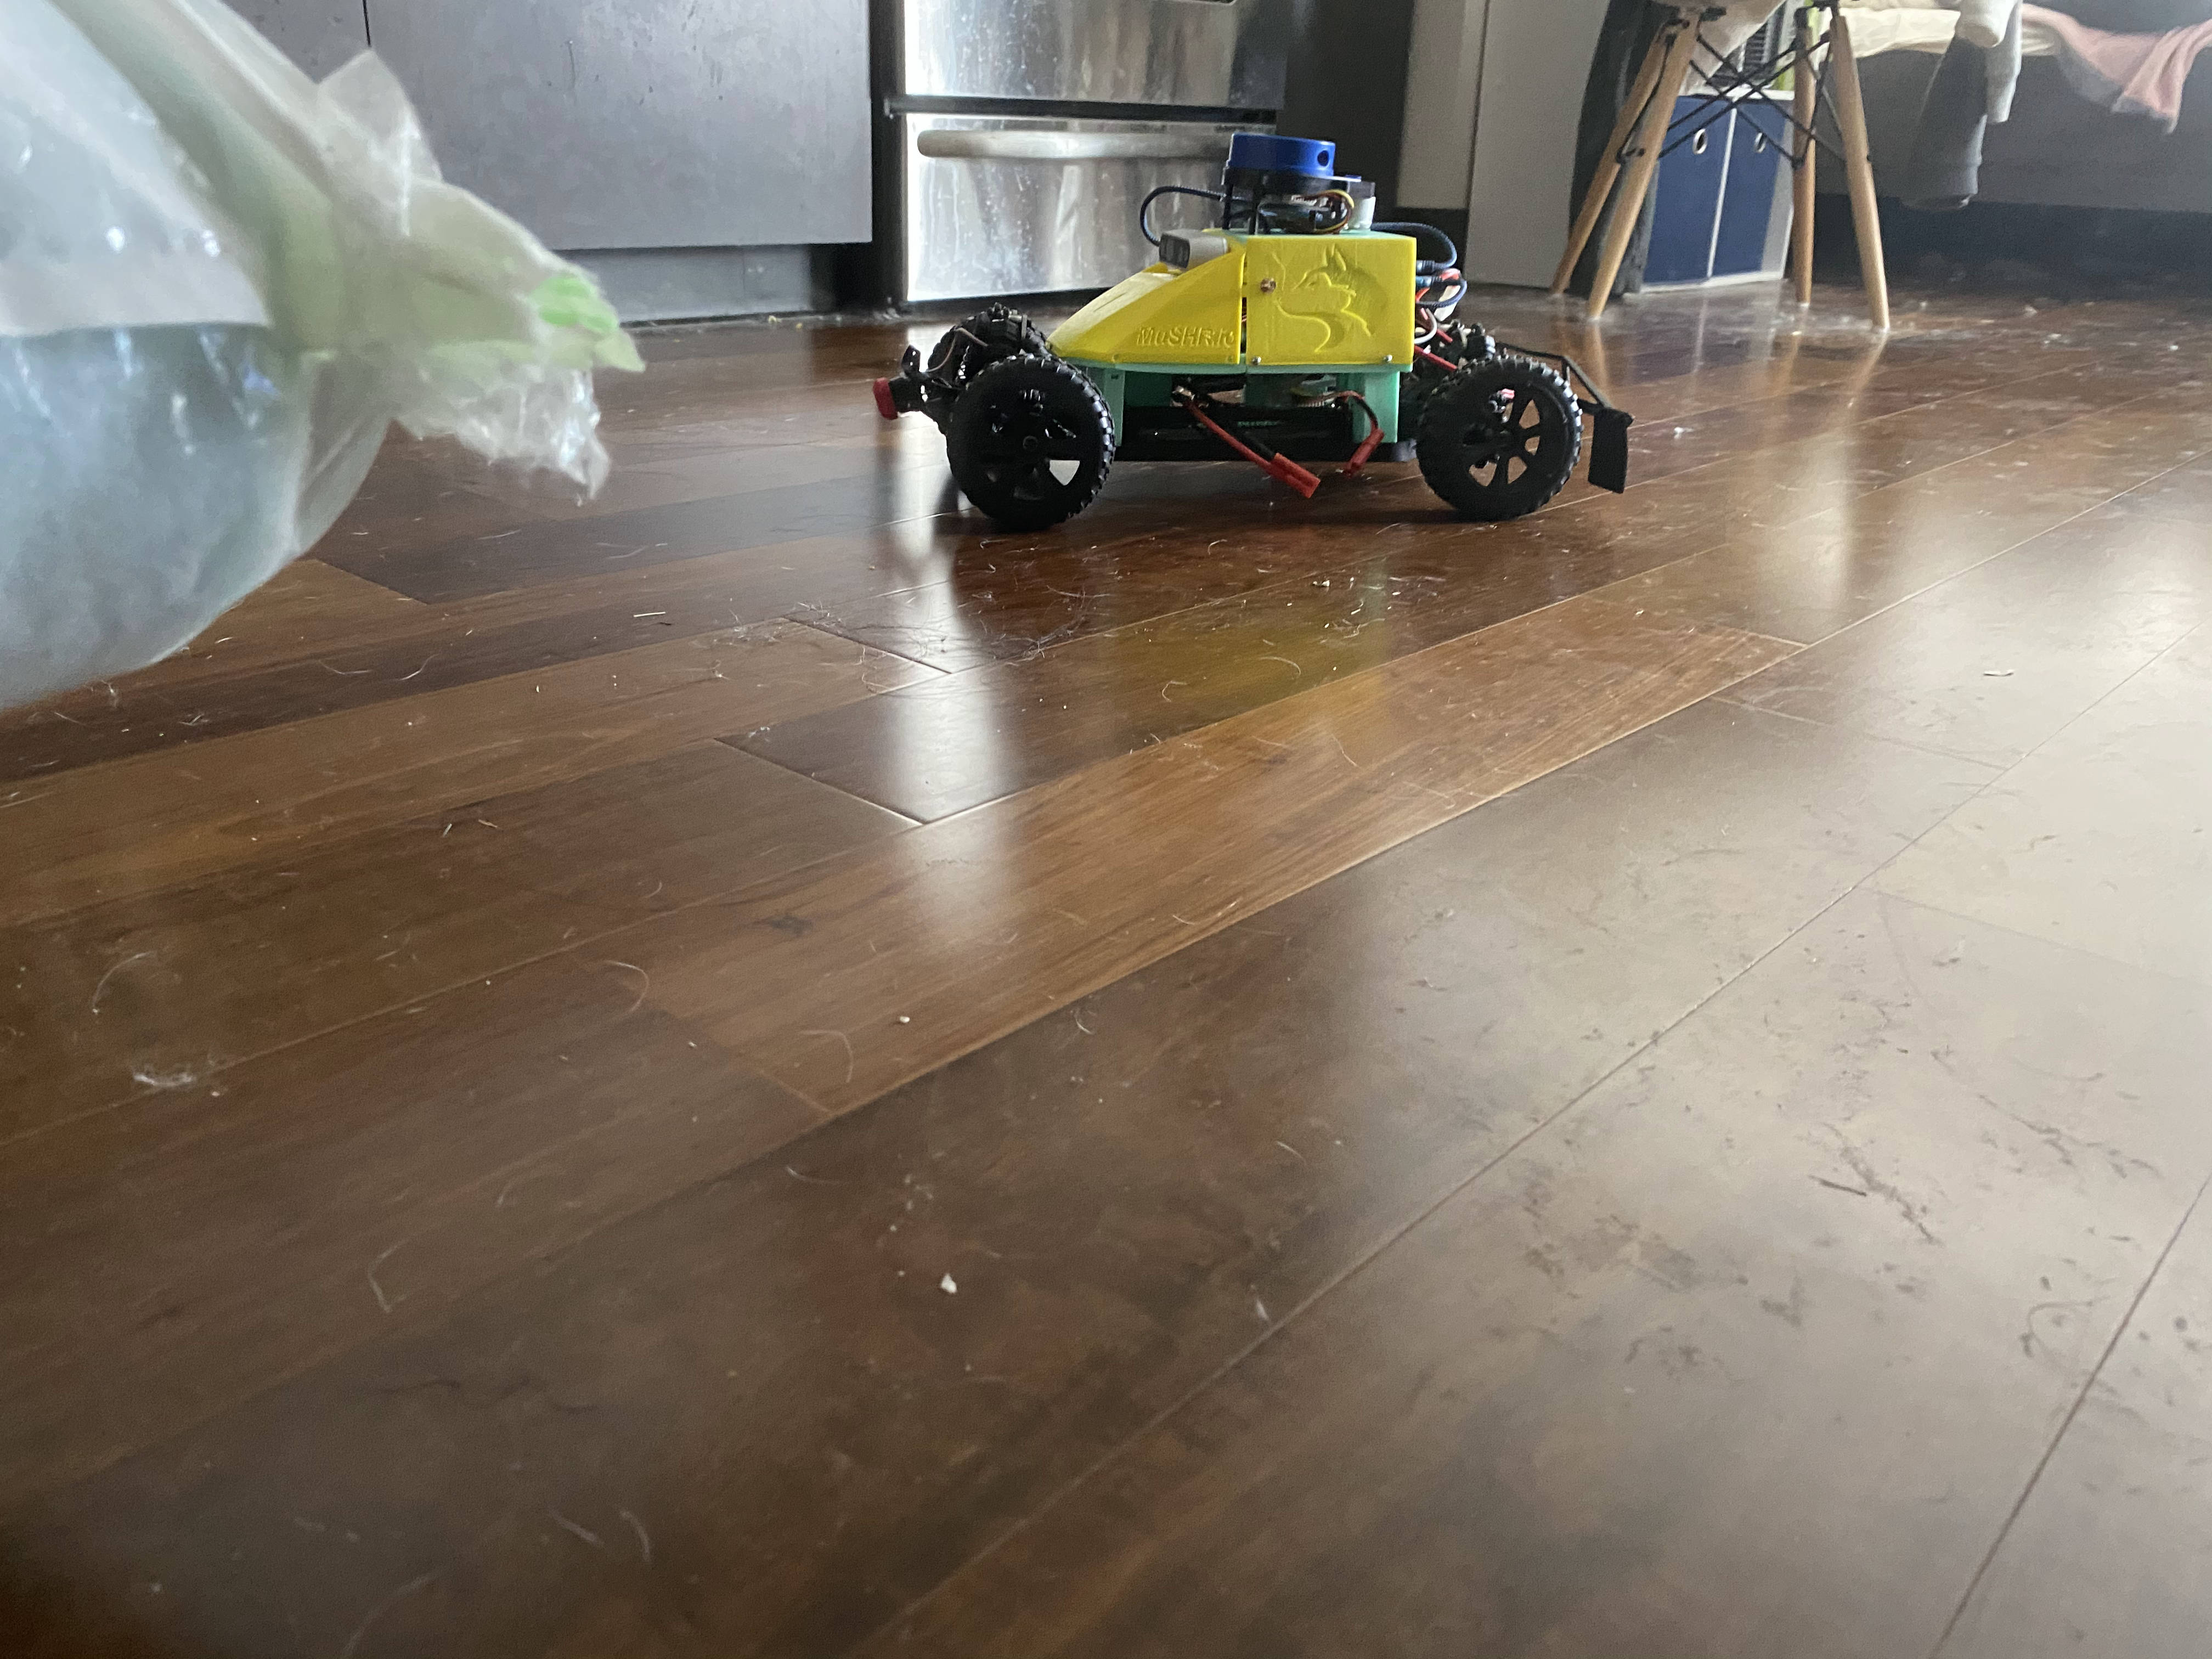mushr_car: (852, 115, 1655, 530)
